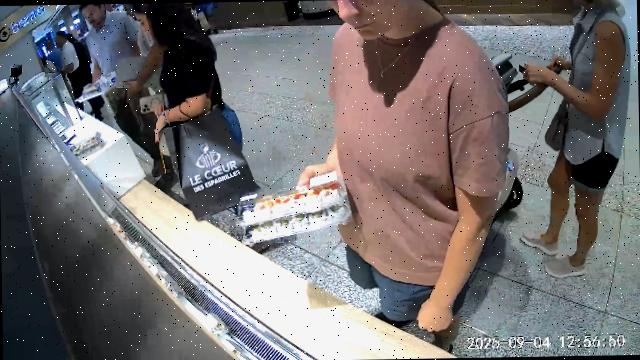sushi-box: (235, 170, 348, 227), (242, 196, 352, 244), (83, 71, 117, 98), (73, 131, 102, 154), (76, 138, 106, 160)
